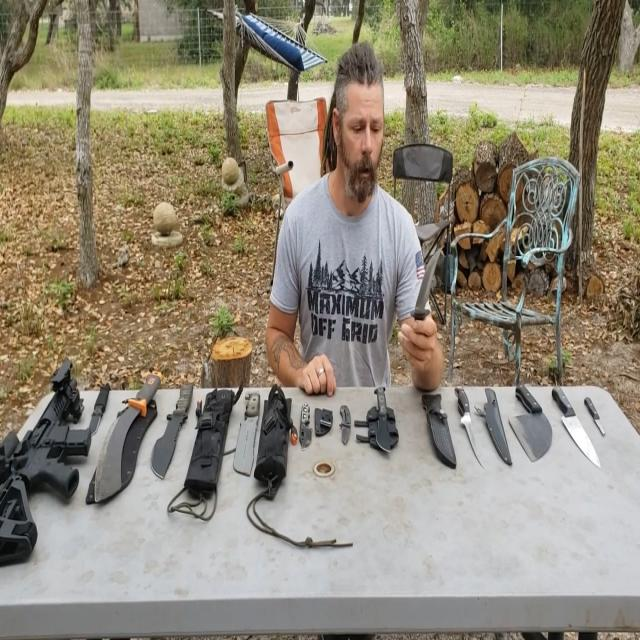knife: (99, 354, 168, 512), (146, 363, 195, 497), (509, 356, 556, 487), (555, 380, 610, 478), (402, 236, 442, 352), (237, 374, 268, 488), (453, 378, 478, 473), (374, 380, 400, 468), (87, 366, 113, 452), (332, 386, 355, 466), (290, 384, 312, 464), (582, 384, 607, 438)
long weapon: (0, 347, 111, 586)
